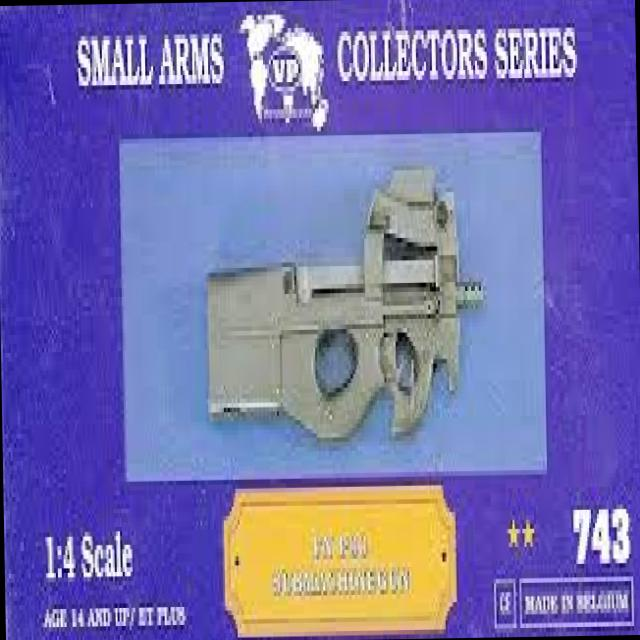Gun: (182, 156, 498, 468)
